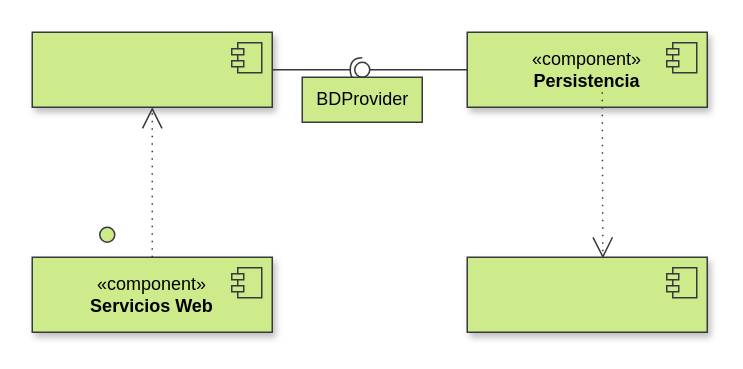
Some shapes in this 743 by 369 pixel diagram are drawn without their labels. Each missing label, with the centre of its shape:
"«component» Base de Datos" belongs at [588,296].
"«component» Negocio" belongs at [153,71].
